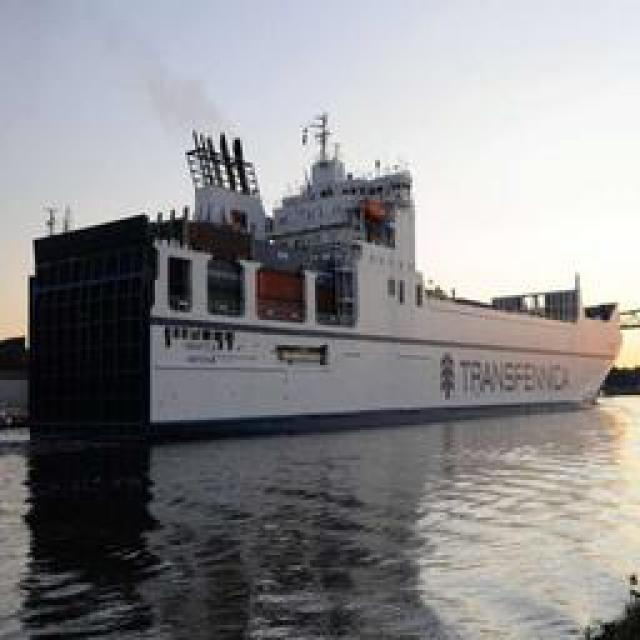Ship: (19, 103, 621, 445)
